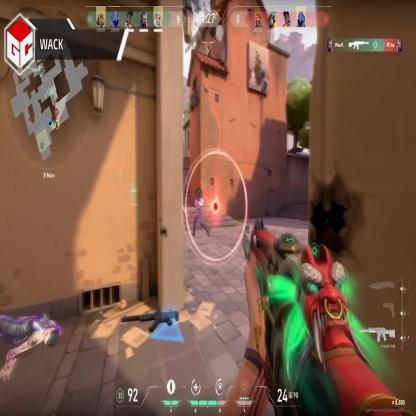enemy: (192, 189, 209, 238)
enemy_head: (195, 190, 202, 200)
